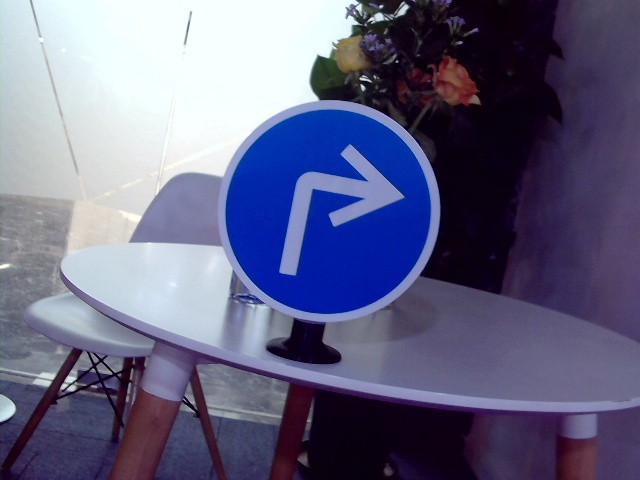turn_right: (283, 138, 400, 279)
